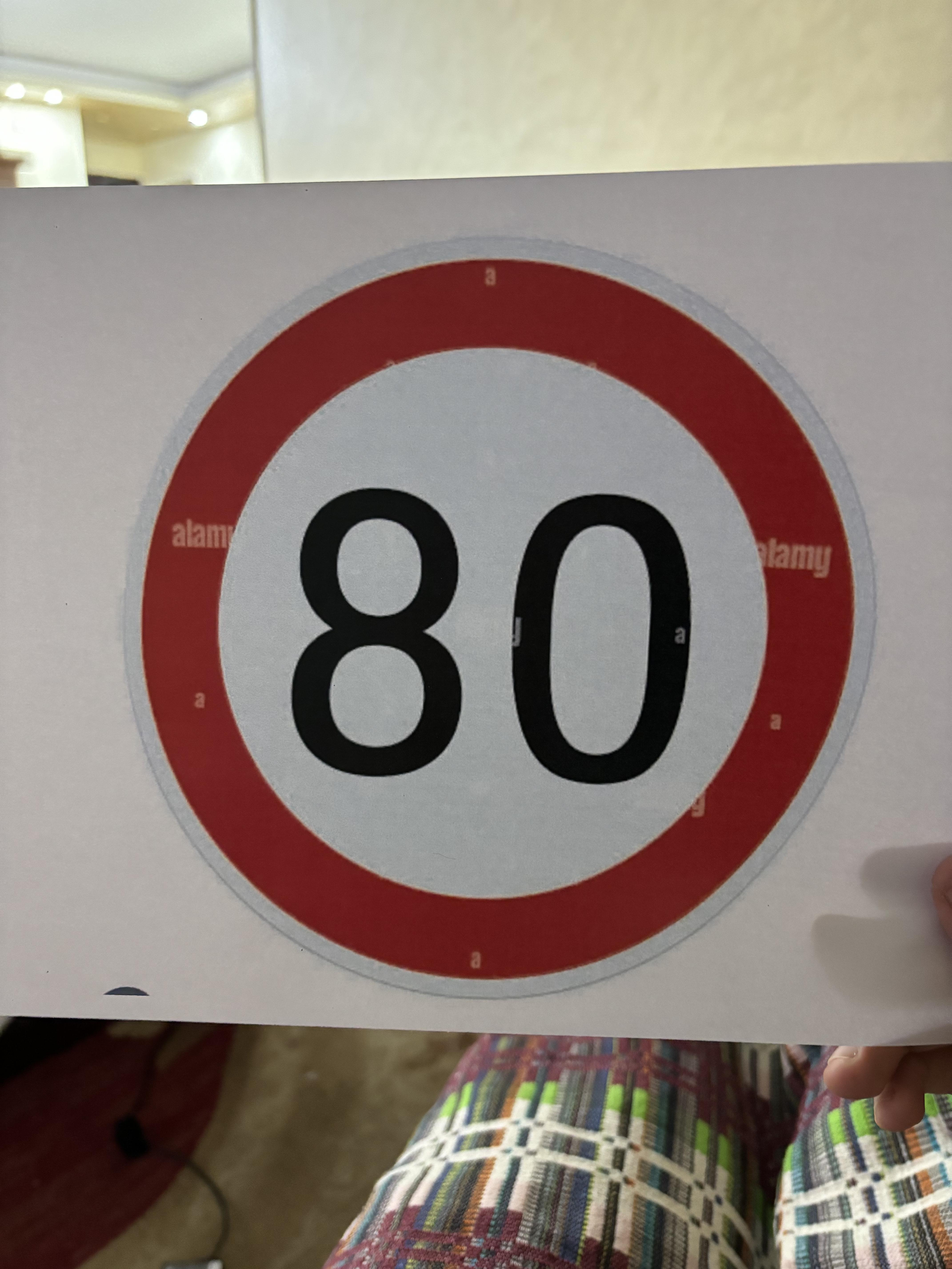80-Speed: (109, 231, 888, 1005)
